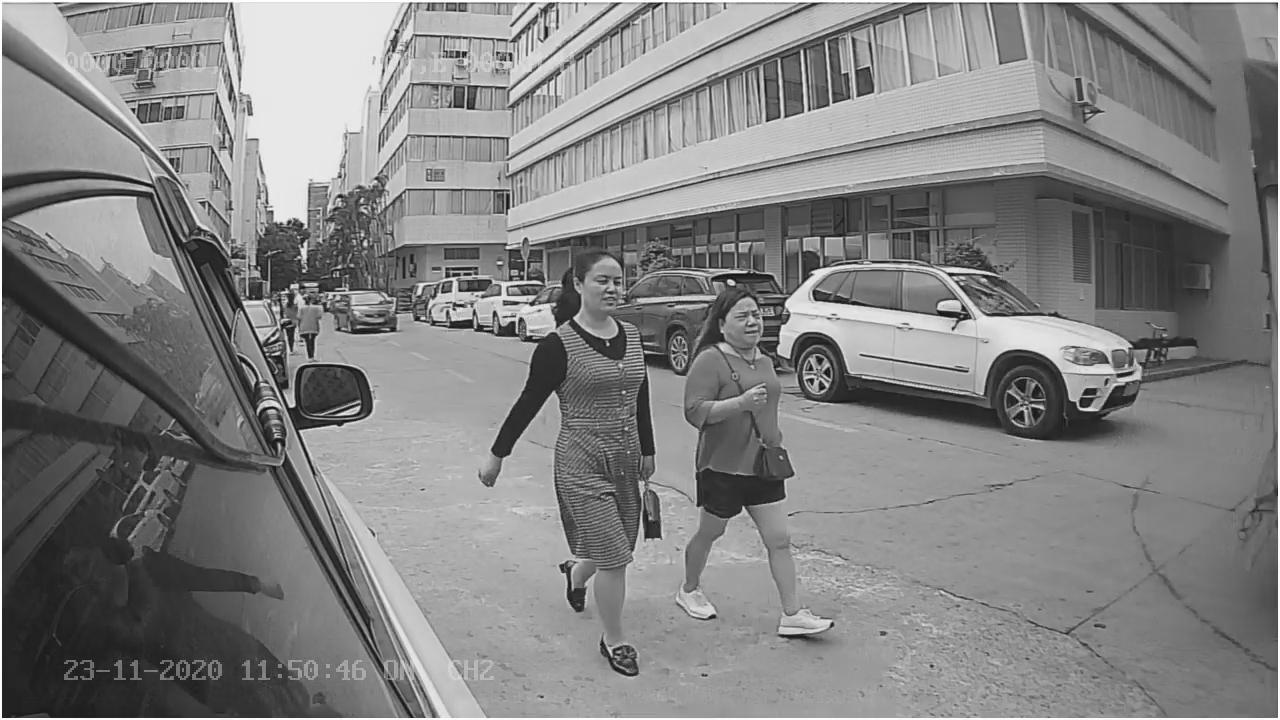person: (471, 245, 656, 674), (676, 279, 838, 637)
